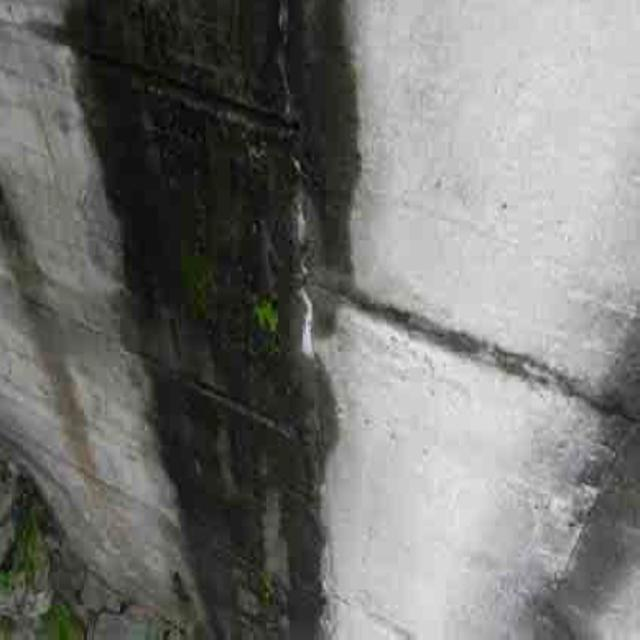leakage: (61, 7, 353, 640)
